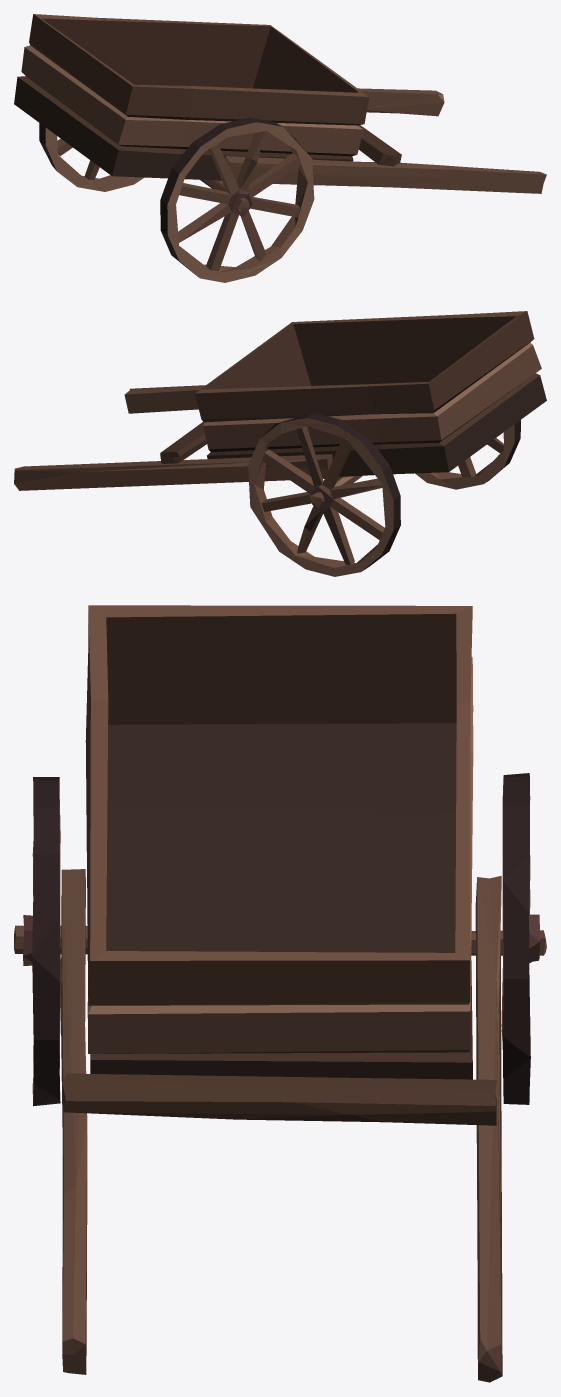
File: WheelBarrow_01.glb
3 views of the same model, one above another, from view 1: azimuth 30°, elevation 25°; view 2: azimuth 150°, elevation 25°; view 3: azimuth 270°, elevation 25° (orthographic). The views are drawn at different scales.
Visible parts, largest first — view 1: WheelBarrow_01; view 2: WheelBarrow_01; view 3: WheelBarrow_01.
Part boxes in pixels (left/top/right/bottom): WheelBarrow_01: left=14, top=14, right=546, bottom=282; WheelBarrow_01: left=14, top=311, right=546, bottom=576; WheelBarrow_01: left=14, top=605, right=546, bottom=1382.
Size of what is drawn, in the model's own units: 2.3 by 1.04 by 1.27.
Materials: 1 (1 with a texture image).
